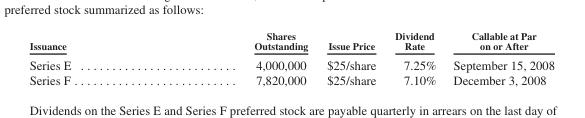table: (28, 29, 553, 86)
table column: (162, 29, 316, 86), (28, 29, 162, 86), (444, 29, 553, 86), (316, 29, 384, 86), (384, 29, 444, 86)
table column header: (28, 29, 553, 54)
table row: (28, 29, 553, 54), (28, 54, 553, 72), (28, 72, 553, 86)
